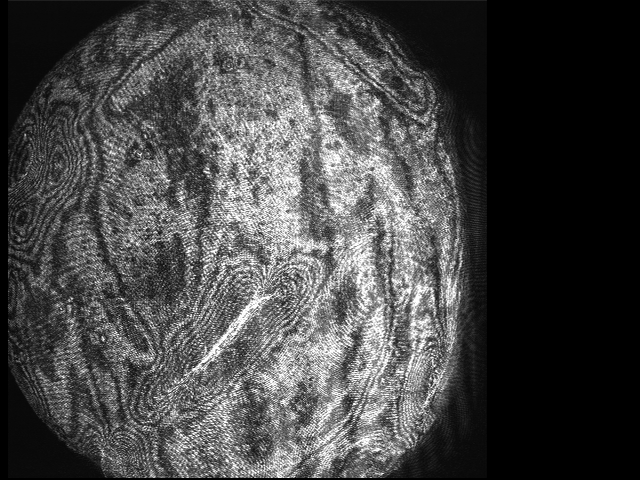plume: (164, 269, 309, 391)
